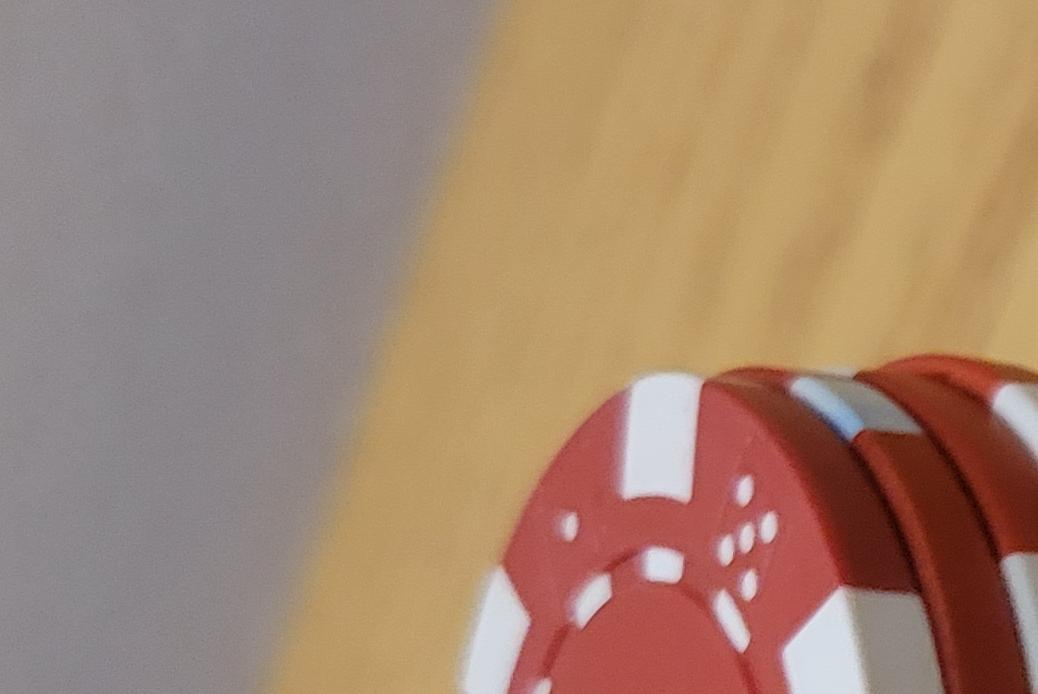Chip: (1, 247, 719, 694)
